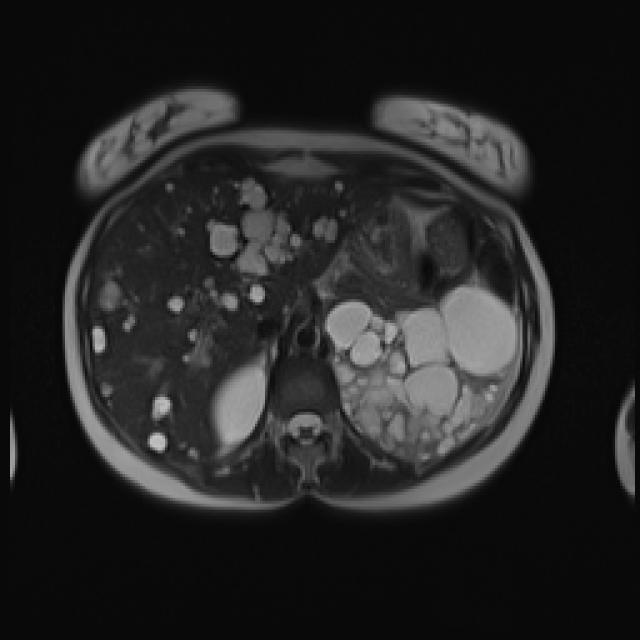sag: (213, 351, 267, 445)
sol: (327, 281, 517, 460)
